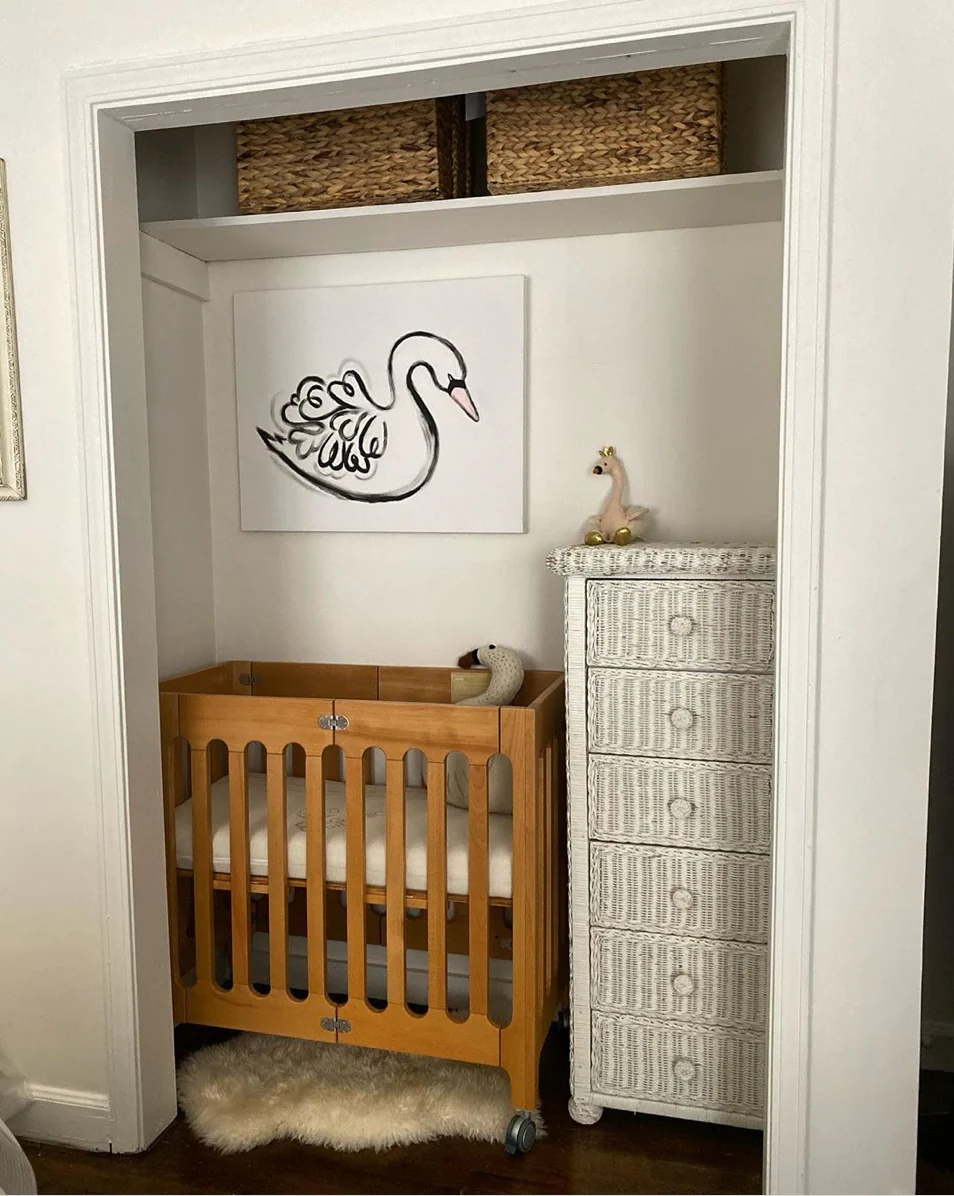crib: (160, 662, 565, 1109)
